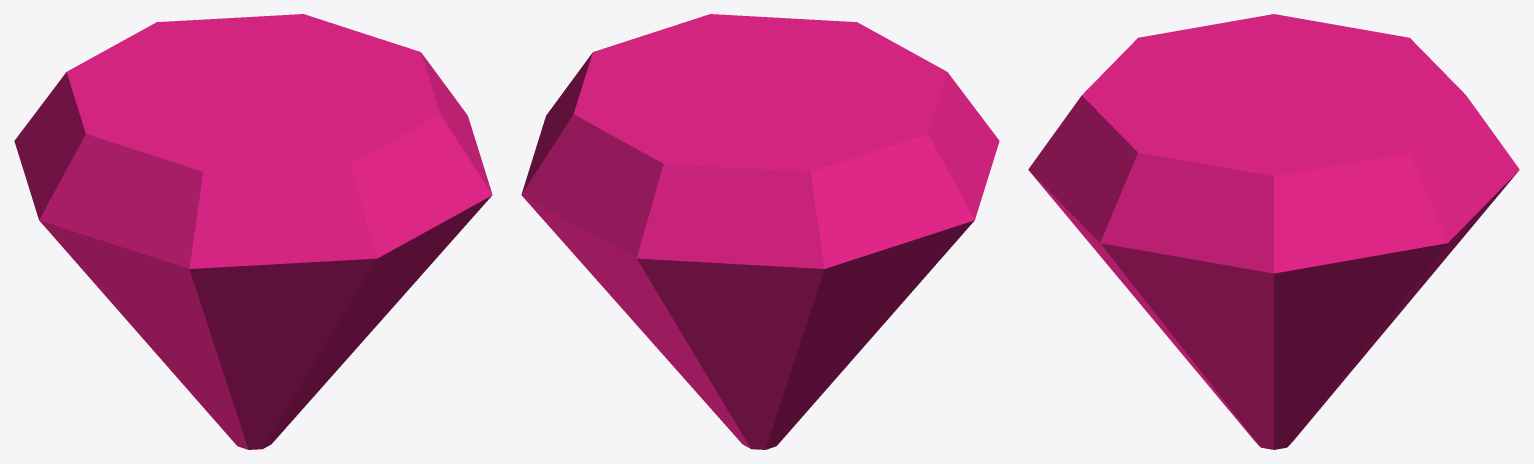
Rendered from Diamond.fbx.
3 views of the same model, side by side, from view 1: azimuth 30°, elevation 25°; view 2: azimuth 150°, elevation 25°; view 3: azimuth 270°, elevation 25° (orthographic).
Parts seen in each view (by area): view 1: diamante; view 2: diamante; view 3: diamante.
Part boxes in pixels (x1,y1,x2,y2): diamante: (14,14,492,449); diamante: (521,14,999,449); diamante: (1028,14,1519,449).
Bounding box in the file's own units: 200 × 156 × 200.
